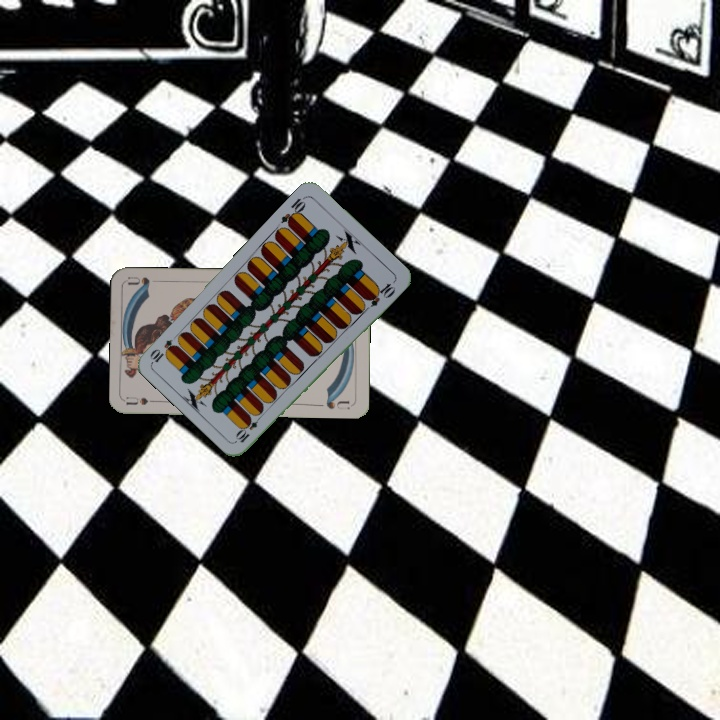E10: (277, 192, 309, 229), (232, 410, 265, 445)
SU: (124, 393, 164, 408)
